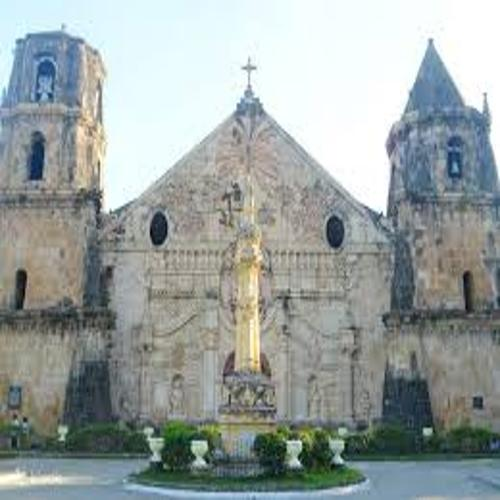Miagao Church: (2, 16, 500, 482)
